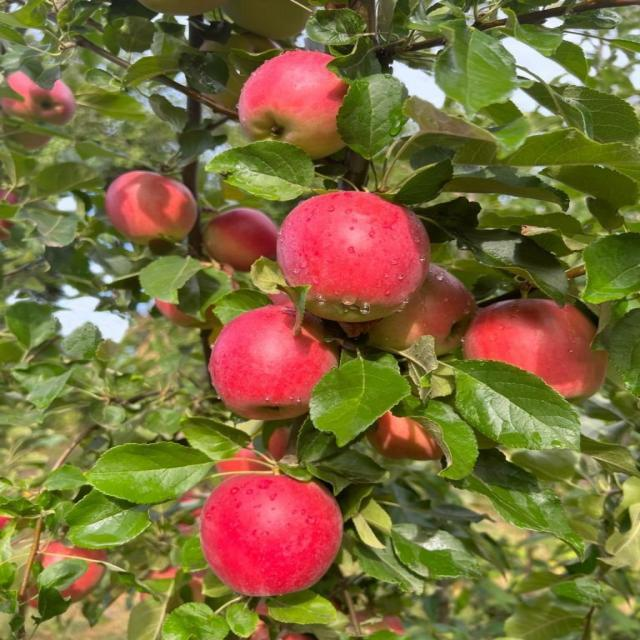Red Apple: (280, 198, 420, 314), (212, 479, 350, 594), (464, 300, 608, 400), (218, 312, 339, 426), (239, 48, 364, 153), (358, 260, 469, 351), (14, 519, 104, 610), (375, 392, 456, 475), (115, 168, 194, 238), (8, 71, 77, 132), (203, 212, 267, 261)
